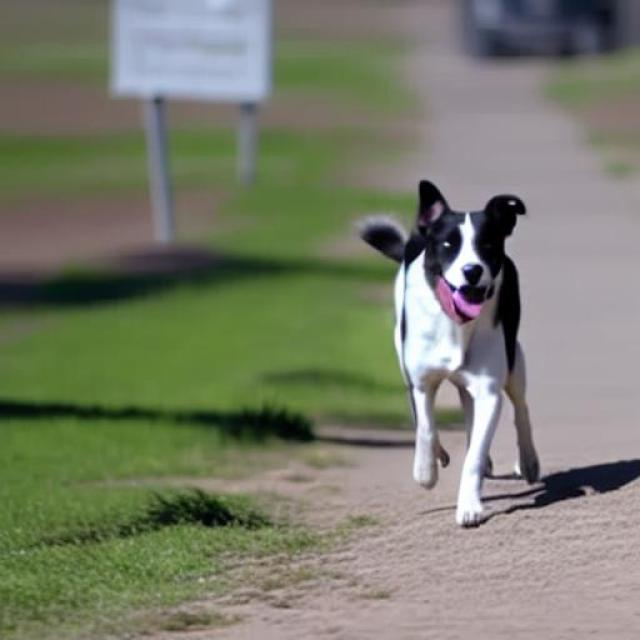Dog: (353, 178, 541, 527)
